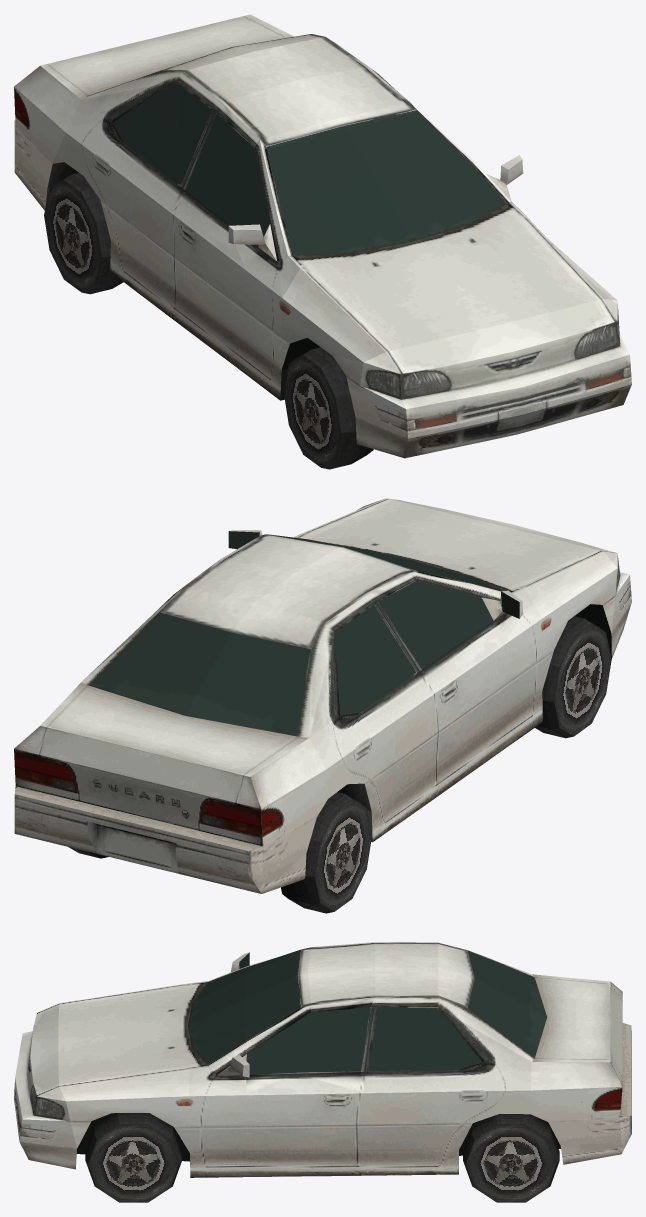
Rendered from subaru_impreza.fbx.
The picture shows the model from 3 angles, top to bottom: view 1: azimuth 30°, elevation 25°; view 2: azimuth 150°, elevation 25°; view 3: azimuth 270°, elevation 25°; orthographic projection. The views are drawn at different scales.
Parts seen in each view (by area): view 1: SubaruImpreza, sub_imp_fr, sub_imp_rr; view 2: SubaruImpreza, sub_imp_rr, sub_imp_fr; view 3: SubaruImpreza, sub_imp_fl, sub_imp_rl, SubaruImpreza.001.
Part boxes in pixels (left/top/right/bottom): SubaruImpreza: left=14, top=14, right=631, bottom=458; sub_imp_fr: left=283, top=347, right=373, bottom=469; sub_imp_rr: left=44, top=173, right=123, bottom=294; SubaruImpreza: left=14, top=498, right=631, bottom=893; sub_imp_rr: left=281, top=792, right=372, bottom=913; sub_imp_fr: left=535, top=616, right=611, bottom=738; SubaruImpreza: left=14, top=942, right=631, bottom=1177; sub_imp_fl: left=85, top=1113, right=181, bottom=1202; sub_imp_rl: left=463, top=1114, right=559, bottom=1202; SubaruImpreza.001: left=246, top=1007, right=369, bottom=1074.
Bounding box in the file's own units: 1.63 × 1.28 × 3.79.
2 materials, 2 textured.
